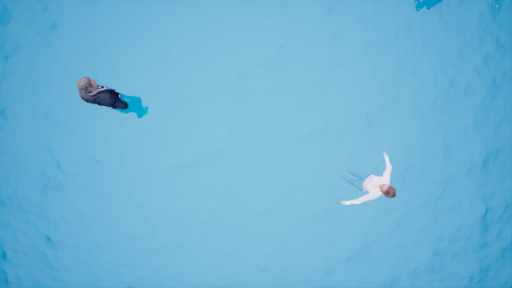person: (330, 149, 408, 209), (67, 71, 159, 121)
